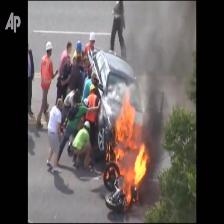fire: (106, 88, 151, 203)
